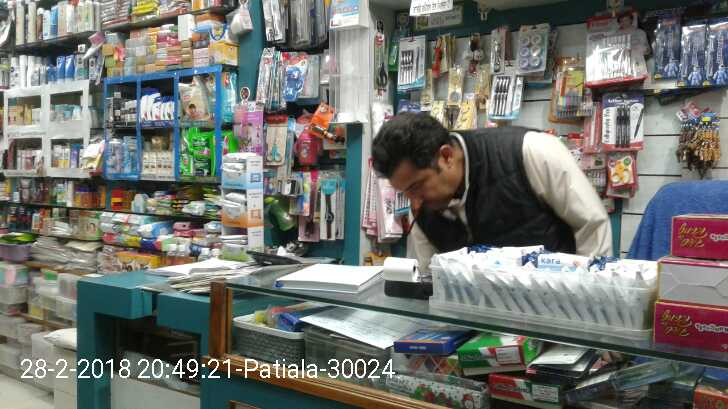venus: (122, 134, 140, 173), (111, 140, 122, 173)
